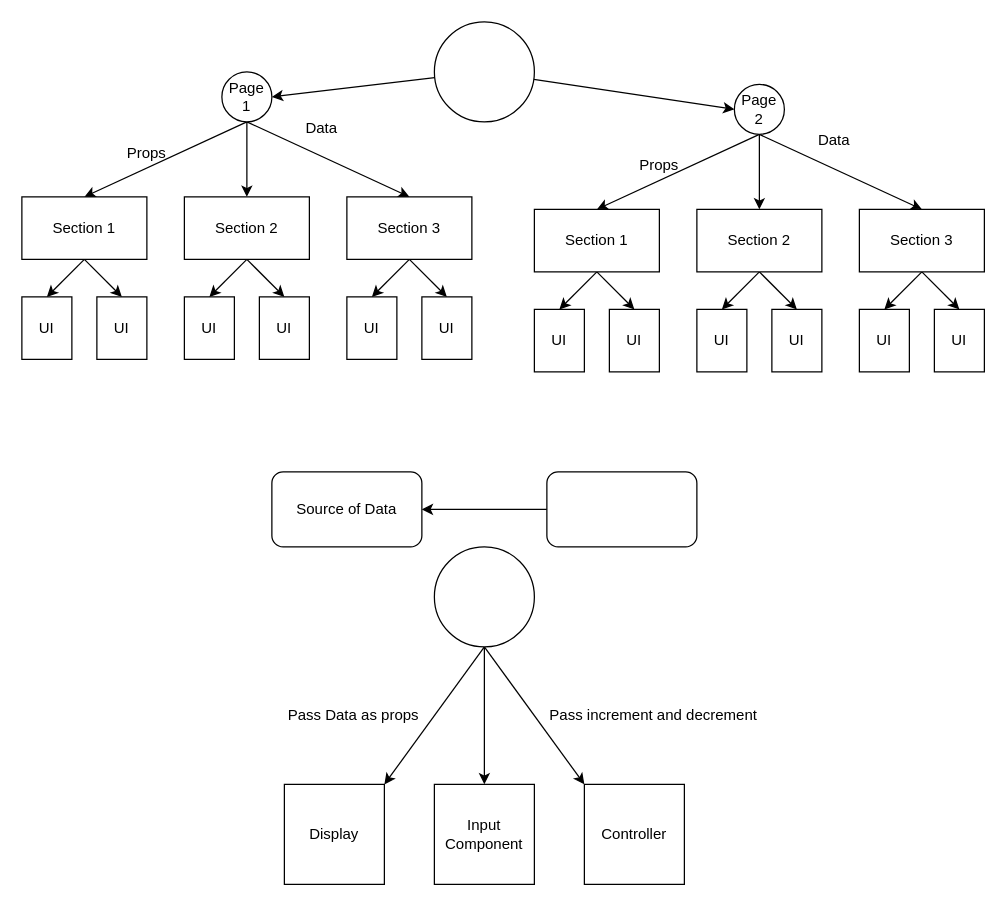
Some shapes in this 1006 by 906 pixel diagram are drawn without their labels. The centre of each missing label's shape, as x and y in pixels:
App: pixel 483 71
increment() decrement(): pixel 621 509
Main Component: pixel 483 596
